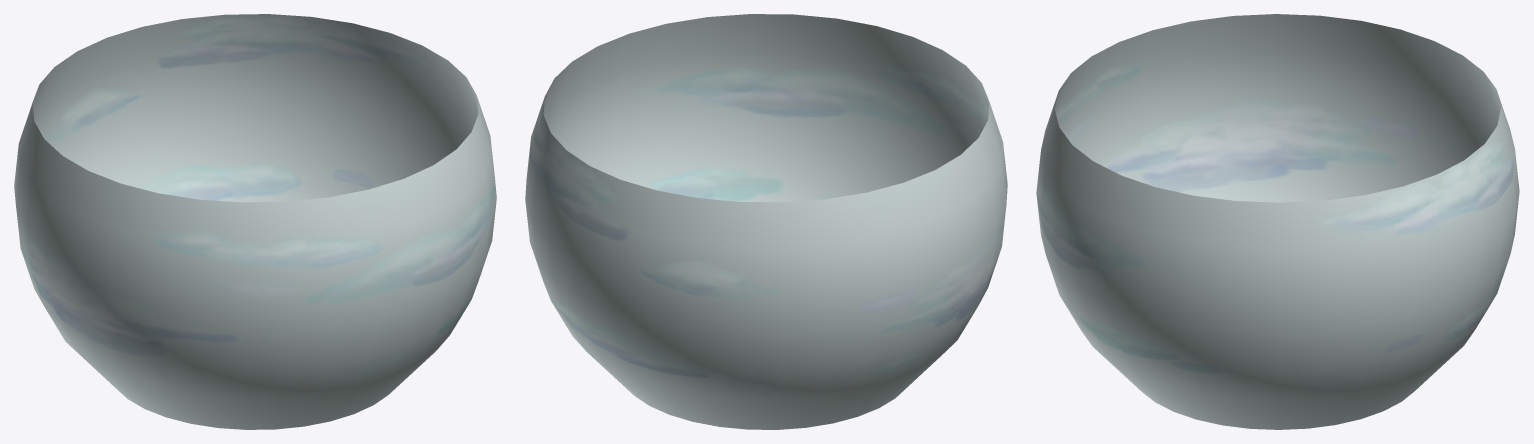
File: skybox_stsm_yun_002.FBX
3 views of the same model, side by side, from view 1: azimuth 30°, elevation 25°; view 2: azimuth 150°, elevation 25°; view 3: azimuth 270°, elevation 25° (orthographic).
Parts seen in each view (by area): view 1: skybox_stsm_yun_002; view 2: skybox_stsm_yun_002; view 3: skybox_stsm_yun_002.
Boxes of the visible parts, left/top/right/bottom form: skybox_stsm_yun_002: left=14, top=14, right=496, bottom=429; skybox_stsm_yun_002: left=525, top=14, right=1007, bottom=429; skybox_stsm_yun_002: left=1036, top=14, right=1519, bottom=429.
Size of the model in its own units: 126 by 74.67 by 126.
